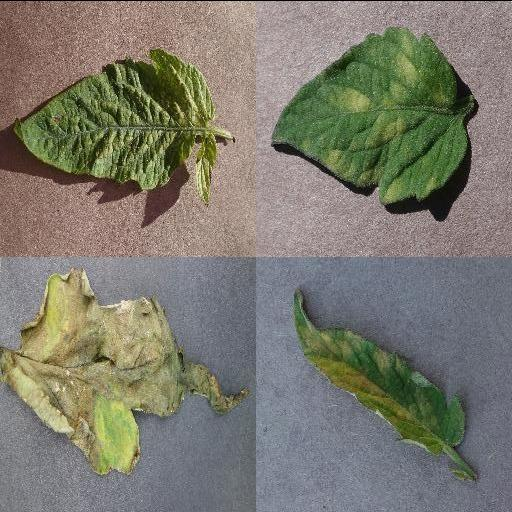Late Blight: (0, 267, 250, 477)
Leaf Mold: (269, 25, 469, 203), (293, 290, 465, 455)
Spider Mites: (12, 45, 216, 205)
